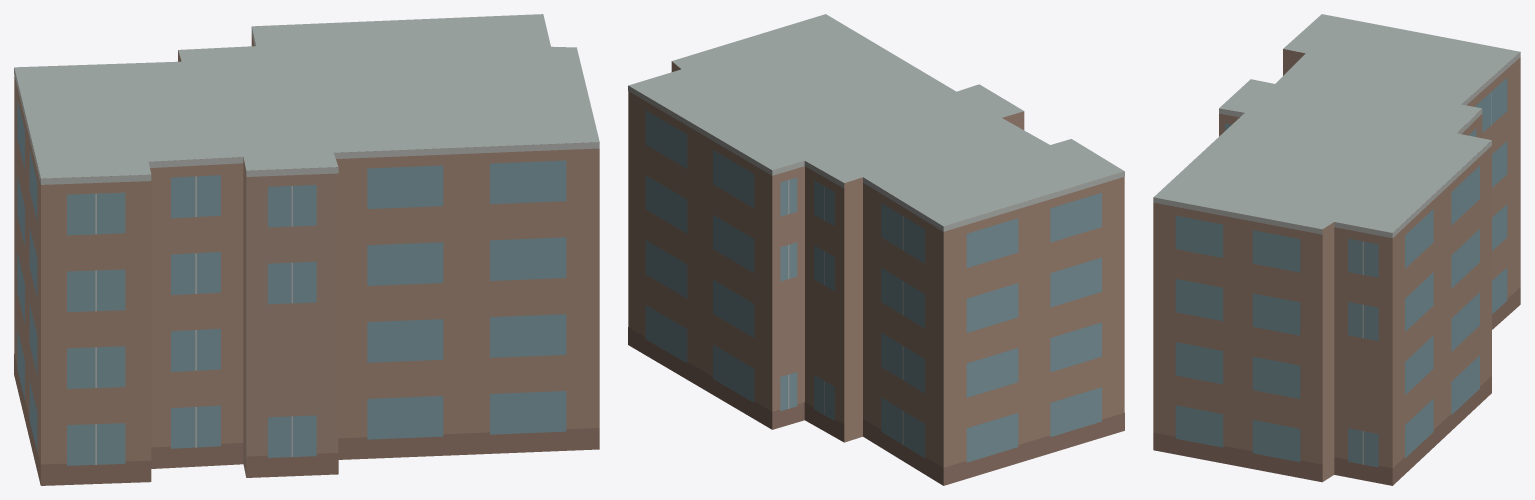
The model's file is survey-upis-32523675.glb.
3 renders of one model, left to right at view 1: azimuth 30°, elevation 25°; view 2: azimuth 150°, elevation 25°; view 3: azimuth 270°, elevation 25°, orthographic. The views are drawn at different scales.
Visible parts, largest first — view 1: survey-upis-32523675.tmp; view 2: survey-upis-32523675.tmp; view 3: survey-upis-32523675.tmp.
Boxes of the visible parts, left/top/right/bottom form: survey-upis-32523675.tmp: left=14, top=14, right=599, bottom=485; survey-upis-32523675.tmp: left=628, top=14, right=1124, bottom=485; survey-upis-32523675.tmp: left=1153, top=14, right=1520, bottom=485.
Size of the model in its own units: 21.74 by 11.7 by 15.4.
